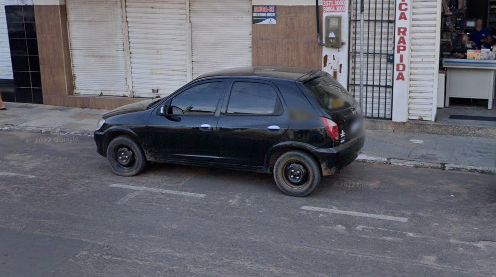car: (93, 61, 367, 198)
